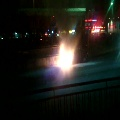fire: (54, 43, 73, 70)
